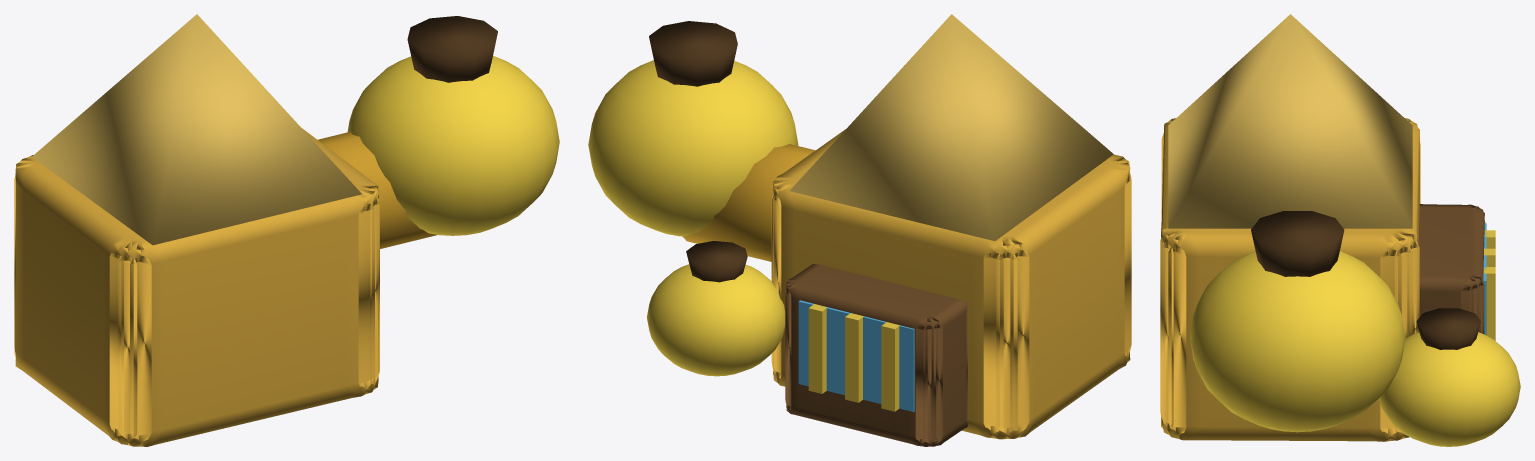
File: b_forge.glb
3 views of the same model, side by side, from view 1: azimuth 30°, elevation 25°; view 2: azimuth 150°, elevation 25°; view 3: azimuth 270°, elevation 25° (orthographic). The views are drawn at different scales.
Visible parts, largest first — view 1: fo_main.001, fo_roof.001, fo_dome.001, fo_hole.001, fo_duct.001; view 2: fo_main.001, fo_roof.001, fo_dome.001, fo_porch.001, fo_dome2.001, fo_win.001, fo_duct.001, fo_hole.001, fo_hole2.001, fo_bar2.001, fo_bar0.001, fo_bar1.001; view 3: fo_roof.001, fo_dome.001, fo_main.001, fo_dome2.001, fo_porch.001, fo_hole.001, fo_hole2.001, fo_bar2.001.
Part boxes in pixels (x1=…): fo_main.001: x1=14, y1=127, x2=379, y2=446; fo_roof.001: x1=32, y1=14, x2=361, y2=245; fo_dome.001: x1=347, y1=55, x2=559, y2=235; fo_hole.001: x1=407, y1=16, x2=497, y2=82; fo_duct.001: x1=318, y1=132, x2=436, y2=248; fo_main.001: x1=771, y1=129, x2=1131, y2=439; fo_roof.001: x1=789, y1=14, x2=1113, y2=240; fo_dome.001: x1=588, y1=60, x2=798, y2=236; fo_porch.001: x1=785, y1=264, x2=967, y2=446; fo_dome2.001: x1=647, y1=264, x2=785, y2=376; fo_win.001: x1=798, y1=300, x2=914, y2=411; fo_duct.001: x1=683, y1=144, x2=815, y2=261; fo_hole.001: x1=649, y1=21, x2=737, y2=86; fo_hole2.001: x1=686, y1=241, x2=747, y2=282; fo_bar2.001: x1=808, y1=304, x2=827, y2=393; fo_bar0.001: x1=881, y1=322, x2=899, y2=411; fo_bar1.001: x1=845, y1=313, x2=863, y2=402; fo_roof.001: x1=1168, y1=14, x2=1412, y2=228; fo_dome.001: x1=1189, y1=251, x2=1405, y2=432; fo_main.001: x1=1160, y1=118, x2=1420, y2=441; fo_dome2.001: x1=1379, y1=332, x2=1520, y2=446; fo_porch.001: x1=1418, y1=204, x2=1485, y2=333; fo_hole.001: x1=1251, y1=211, x2=1344, y2=276; fo_hole2.001: x1=1416, y1=308, x2=1480, y2=349; fo_bar2.001: x1=1483, y1=267, x2=1495, y2=340.
Bounding box in the file's own units: 1.57 × 1.12 × 1.
